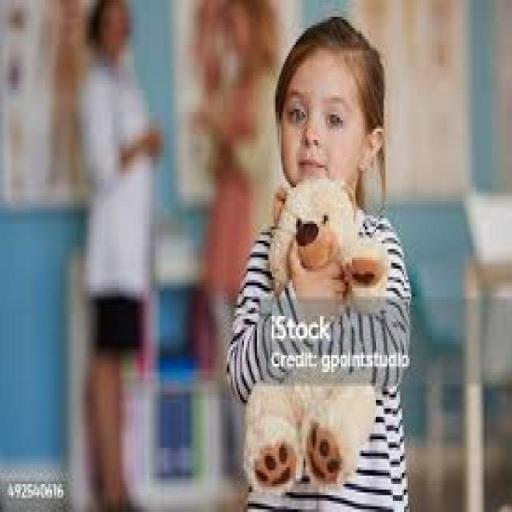baby: (225, 19, 420, 511)
